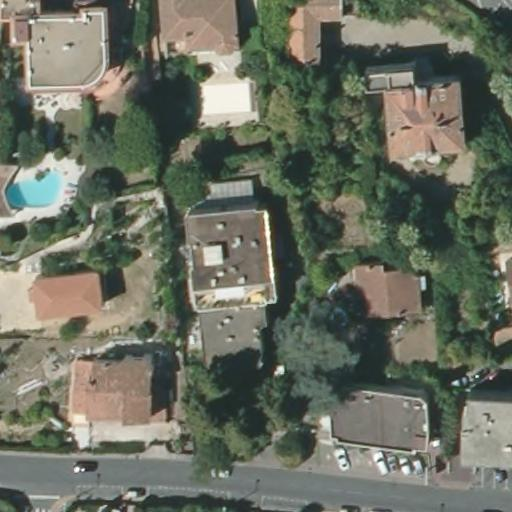pool: (4, 166, 67, 213)
